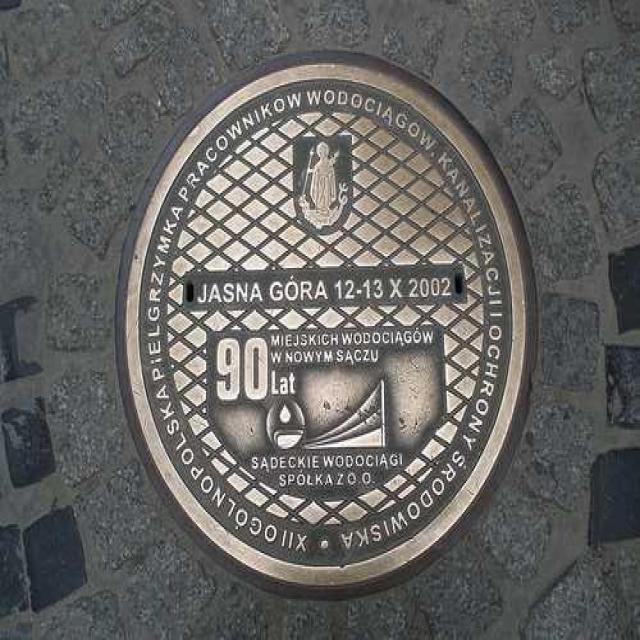manhole: (113, 49, 540, 602)
